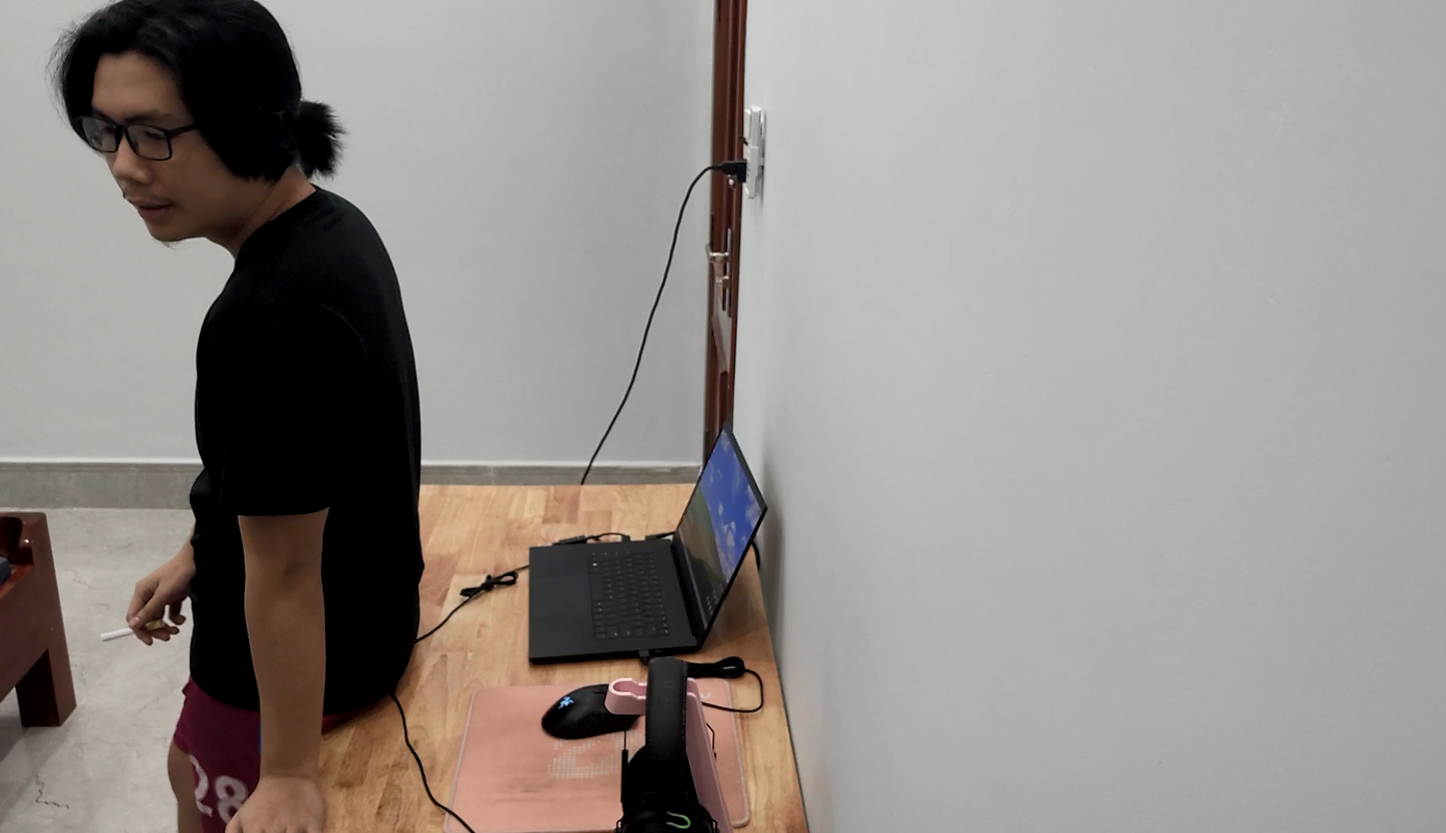cigarette: (92, 618, 172, 650)
person: (33, 0, 440, 750)
